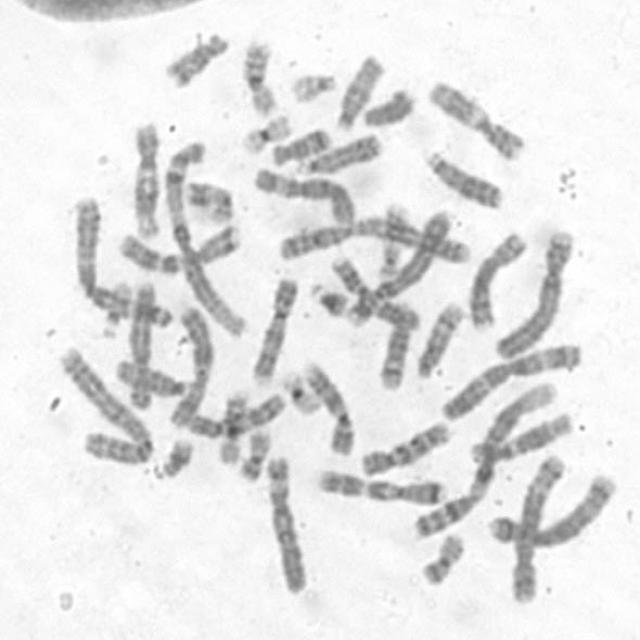A1: (411, 378, 559, 540), (164, 139, 249, 342)
A2: (54, 345, 155, 467), (276, 216, 472, 265)
A3: (72, 195, 176, 328), (441, 342, 582, 422)
B4: (342, 205, 456, 331), (492, 228, 574, 362)
B5: (485, 473, 621, 552), (509, 451, 566, 604)
C10: (360, 420, 454, 480), (186, 390, 286, 443)
C11: (426, 79, 527, 161), (329, 254, 421, 332)
C12: (468, 412, 572, 464), (131, 119, 163, 241)
C6: (252, 164, 357, 227), (265, 454, 308, 595)
C7: (117, 221, 246, 275), (317, 465, 449, 507)
C8: (466, 226, 530, 332), (126, 278, 159, 410)
C9: (302, 359, 356, 459), (252, 278, 302, 381)
D13: (423, 148, 504, 210), (295, 130, 384, 177)
D14: (412, 300, 467, 378), (376, 298, 414, 394)
D15: (331, 54, 387, 133), (114, 357, 185, 398)
E16: (238, 37, 281, 118), (216, 389, 249, 467)
E17: (375, 202, 411, 284), (186, 177, 236, 223)
E18: (164, 33, 229, 89), (266, 124, 335, 166)
F19: (274, 367, 326, 419), (238, 112, 292, 156)
F20: (418, 530, 468, 590), (236, 429, 274, 486)
G21: (153, 437, 194, 484), (307, 280, 351, 321)
G22: (101, 278, 138, 338), (288, 71, 338, 105)
X: (168, 304, 214, 428)
Y: (361, 86, 419, 130)
